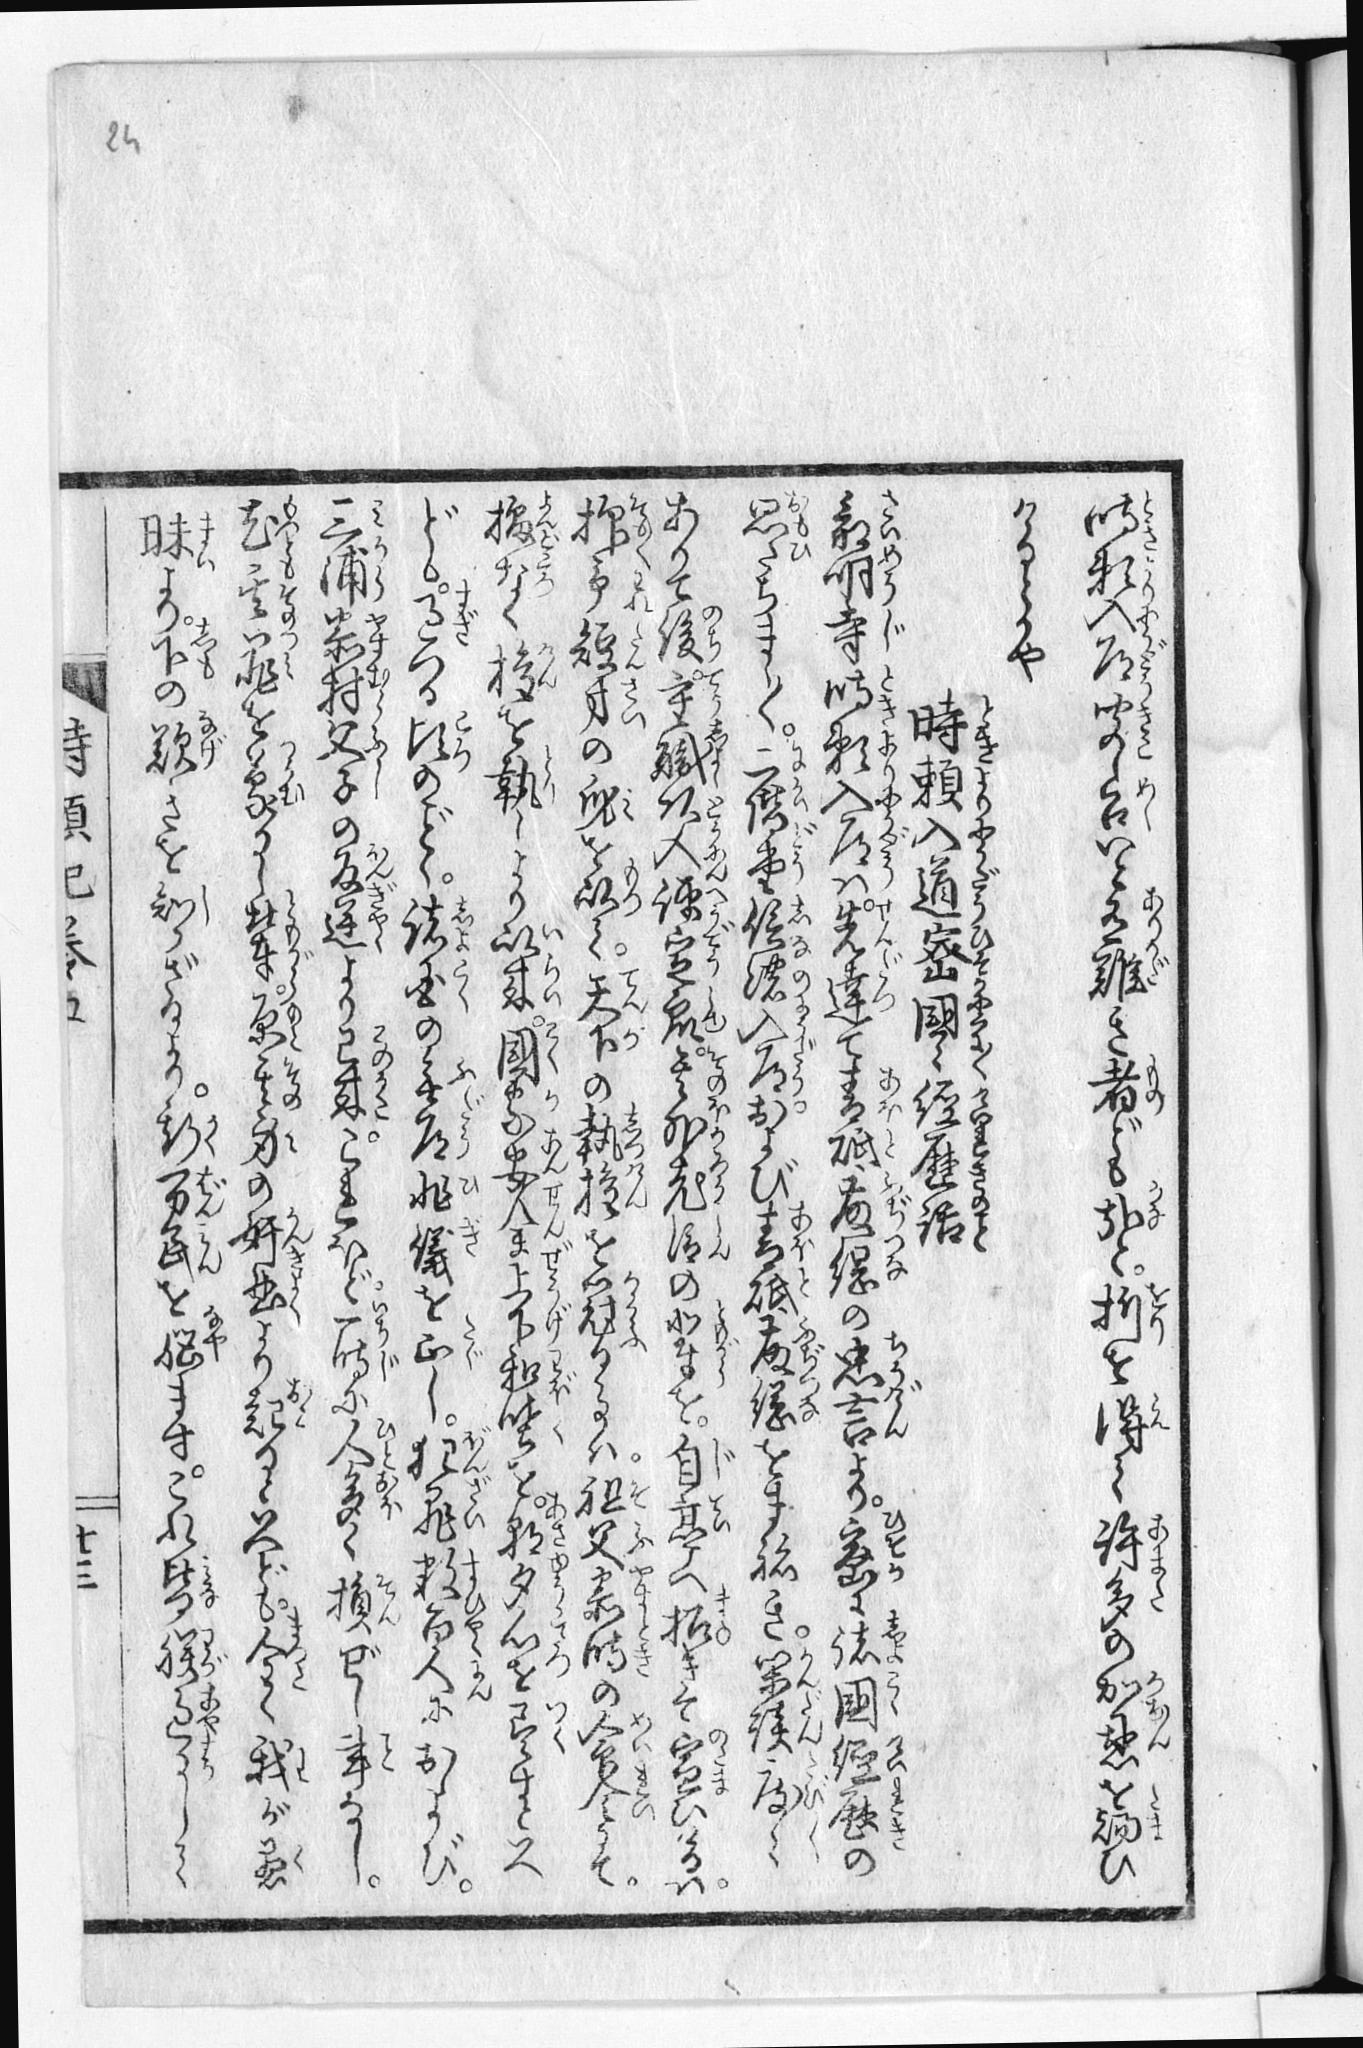MainZone-Character: (484, 487, 566, 605), (910, 985, 1002, 1081), (149, 1682, 230, 1783), (1077, 1051, 1179, 1125), (724, 485, 814, 569), (821, 1508, 916, 1587), (488, 1013, 560, 1116), (313, 879, 405, 956), (910, 689, 1001, 765), (1080, 1390, 1179, 1460), (1082, 690, 1167, 771), (663, 1297, 742, 1384), (828, 1774, 916, 1850), (134, 710, 230, 780), (577, 1265, 651, 1353), (828, 815, 910, 894), (570, 493, 657, 567), (831, 1379, 920, 1450), (911, 858, 1007, 924), (128, 509, 224, 575), (406, 1210, 490, 1285), (1082, 1282, 1174, 1349), (1086, 1777, 1168, 1852), (1088, 1700, 1176, 1768), (820, 543, 911, 608), (823, 899, 908, 969), (149, 1301, 228, 1376), (908, 1133, 1002, 1195), (1080, 937, 1174, 999), (904, 756, 995, 820), (914, 1195, 1007, 1257), (237, 737, 307, 820), (243, 1606, 313, 1688), (145, 1162, 231, 1227), (309, 538, 396, 604), (491, 743, 566, 820), (230, 623, 307, 696), (239, 1247, 310, 1326), (1088, 1507, 1170, 1575), (738, 823, 820, 891), (910, 924, 1004, 984), (415, 1478, 500, 1543), (820, 604, 911, 664), (824, 1228, 911, 1292), (1091, 1181, 1173, 1248), (651, 724, 735, 789), (141, 1621, 233, 1680), (751, 1745, 832, 1812), (141, 613, 218, 683), (824, 1668, 910, 1730), (313, 605, 392, 672), (824, 1174, 916, 1232), (496, 1400, 577, 1466), (748, 1315, 829, 1381), (322, 1571, 405, 1634), (408, 1549, 490, 1613), (1080, 487, 1164, 549), (828, 1060, 910, 1122), (240, 1376, 315, 1444), (236, 555, 304, 629), (403, 892, 478, 961), (399, 707, 478, 771), (741, 1692, 826, 1752), (497, 1113, 570, 1181), (829, 1732, 911, 1793), (1086, 632, 1168, 693), (497, 1612, 573, 1677), (820, 970, 905, 1028), (665, 1729, 735, 1799), (657, 1586, 730, 1653), (829, 488, 907, 550), (315, 838, 399, 896), (908, 1081, 1004, 1131), (322, 1464, 408, 1520), (497, 1347, 583, 1403), (242, 1727, 313, 1794), (566, 616, 656, 669), (148, 1554, 222, 1618), (242, 938, 316, 1002), (322, 1414, 405, 1472), (570, 969, 653, 1026), (647, 826, 733, 880), (580, 1761, 659, 1820), (487, 636, 554, 705), (739, 934, 815, 994), (815, 724, 902, 777), (1092, 774, 1165, 836), (505, 1242, 586, 1298), (412, 1651, 497, 1704), (572, 1099, 647, 1160), (573, 672, 651, 730), (406, 1425, 494, 1475), (406, 1108, 482, 1166), (403, 959, 479, 1017), (414, 578, 479, 645), (414, 1049, 484, 1111), (660, 1435, 739, 1490), (152, 1224, 227, 1282), (575, 1163, 650, 1221), (491, 1181, 572, 1235), (1094, 1574, 1174, 1627), (653, 924, 729, 981), (335, 1723, 399, 1790), (654, 602, 723, 664), (233, 493, 303, 553), (567, 772, 637, 833), (239, 990, 310, 1049), (493, 953, 564, 1013), (657, 981, 729, 1040), (742, 1037, 821, 1090), (821, 667, 896, 724), (907, 818, 1001, 862), (399, 1162, 484, 1210), (656, 1096, 733, 1149), (145, 1108, 224, 1160), (1083, 550, 1162, 602), (829, 1333, 916, 1381), (831, 1613, 907, 1666), (739, 1263, 820, 1314), (242, 1055, 312, 1113), (412, 1312, 482, 1370), (313, 667, 396, 716), (505, 1490, 570, 1551), (504, 1694, 569, 1755), (310, 493, 389, 543), (584, 1619, 651, 1679), (326, 1327, 400, 1381), (660, 1490, 736, 1542), (659, 1212, 735, 1263), (747, 1381, 828, 1429), (1095, 886, 1167, 941), (569, 859, 642, 912), (750, 1204, 815, 1263), (312, 718, 388, 768), (660, 1156, 732, 1209), (239, 883, 309, 937), (326, 1072, 396, 1125), (573, 1470, 650, 1519), (739, 892, 811, 944), (577, 1709, 657, 1755), (750, 1642, 823, 1692), (415, 1606, 493, 1653), (659, 1043, 729, 1095), (502, 1558, 573, 1609), (581, 1568, 653, 1618), (504, 1295, 580, 1343), (580, 1520, 656, 1568), (648, 880, 732, 923), (738, 781, 811, 830), (820, 1128, 898, 1174), (573, 570, 653, 614), (236, 1209, 316, 1251), (249, 1834, 312, 1888), (657, 669, 729, 716), (143, 883, 219, 927), (318, 768, 392, 812), (820, 777, 902, 816), (330, 1025, 399, 1072), (738, 999, 811, 1040), (1085, 1666, 1167, 1701), (739, 739, 808, 780), (1080, 604, 1162, 637), (488, 915, 564, 950), (654, 791, 727, 821), (584, 1028, 650, 1060), (326, 1300, 392, 1324)
MainZone-Ruby: (964, 979, 993, 1081), (531, 491, 557, 602), (882, 1374, 923, 1443), (196, 1683, 224, 1780), (879, 1507, 913, 1583), (707, 1297, 735, 1390), (876, 820, 910, 888), (196, 1160, 231, 1225), (367, 877, 397, 952), (967, 861, 1004, 921), (704, 1727, 735, 1800), (284, 1607, 310, 1692), (875, 900, 907, 969), (459, 1548, 491, 1616), (887, 1776, 914, 1855), (628, 493, 657, 567), (275, 736, 304, 810), (800, 1748, 832, 1815), (198, 1298, 231, 1362), (785, 488, 812, 566), (540, 1694, 572, 1759), (619, 1271, 645, 1352), (459, 1420, 496, 1476), (459, 1473, 496, 1530), (283, 938, 315, 1002), (793, 1320, 826, 1381), (196, 1624, 231, 1682), (701, 921, 738, 976), (616, 962, 653, 1017), (539, 1239, 575, 1294), (283, 1251, 310, 1324), (452, 579, 482, 645), (796, 1691, 829, 1748), (373, 1568, 402, 1634), (193, 1228, 228, 1283), (1144, 1282, 1174, 1344), (272, 555, 298, 628), (373, 1470, 409, 1522), (540, 1022, 561, 1110), (975, 698, 1001, 769), (449, 1054, 482, 1108), (703, 721, 730, 786), (790, 823, 818, 883), (873, 1063, 904, 1121), (195, 709, 224, 769), (616, 675, 648, 730), (628, 1762, 656, 1826), (619, 1102, 648, 1162), (376, 1324, 405, 1384), (449, 896, 476, 958), (1144, 1698, 1176, 1752), (367, 1017, 399, 1070), (879, 1175, 913, 1225), (540, 1295, 573, 1346), (1141, 1054, 1168, 1114), (190, 613, 214, 681), (539, 952, 564, 1016), (700, 824, 729, 880), (361, 611, 389, 667), (539, 1181, 567, 1238), (368, 537, 394, 599), (449, 712, 475, 774), (882, 1606, 910, 1663), (706, 1154, 735, 1209), (545, 1349, 575, 1400), (1133, 777, 1161, 833), (788, 1203, 815, 1259), (875, 488, 904, 541), (286, 1376, 315, 1429), (1136, 637, 1167, 687), (462, 1657, 496, 1703), (195, 511, 219, 573), (272, 494, 300, 549), (545, 1619, 572, 1674), (967, 926, 996, 978), (621, 1160, 650, 1212), (537, 742, 560, 807), (710, 1581, 733, 1647), (788, 934, 812, 994), (548, 1552, 572, 1613), (1145, 1779, 1168, 1843), (700, 979, 727, 1032), (456, 1314, 484, 1367), (195, 1558, 221, 1615), (790, 1038, 818, 1089), (704, 1099, 733, 1149), (280, 1206, 316, 1245), (1144, 940, 1174, 987), (1133, 699, 1156, 762), (879, 1669, 907, 1721), (280, 1057, 306, 1111), (698, 602, 723, 660), (969, 1198, 993, 1256), (625, 1710, 656, 1756), (872, 666, 898, 719), (628, 1566, 656, 1616), (539, 1127, 567, 1174), (796, 1385, 826, 1429), (882, 1233, 910, 1282), (706, 1216, 733, 1265), (542, 1485, 563, 1548), (969, 1136, 992, 1194), (452, 959, 475, 1017), (706, 1488, 735, 1534), (793, 1644, 821, 1689), (1147, 1511, 1168, 1572), (449, 1108, 473, 1162), (709, 1437, 738, 1481), (458, 1210, 487, 1254), (624, 617, 648, 669), (879, 546, 902, 601), (534, 637, 557, 692), (701, 669, 726, 719), (275, 631, 300, 681), (374, 1416, 397, 1469), (196, 1110, 224, 1154), (878, 607, 907, 648), (364, 671, 392, 712), (876, 727, 901, 775), (1139, 889, 1165, 935), (633, 1621, 653, 1680), (361, 842, 394, 877), (618, 858, 639, 912), (887, 1332, 911, 1379), (284, 1003, 307, 1054), (1147, 1391, 1176, 1431), (1139, 488, 1158, 550), (374, 1727, 397, 1776), (625, 570, 651, 613), (870, 972, 899, 1010), (704, 1048, 729, 1092), (627, 1520, 656, 1557), (625, 1475, 653, 1513), (280, 886, 301, 935), (972, 1087, 995, 1131), (884, 1732, 910, 1770), (459, 1616, 485, 1654), (975, 765, 993, 818), (370, 1073, 389, 1122), (292, 1742, 312, 1791), (1136, 555, 1159, 596), (367, 719, 388, 762), (1147, 1180, 1165, 1227), (286, 1843, 310, 1878), (881, 1128, 905, 1162), (368, 494, 392, 528), (1144, 1575, 1165, 1613), (196, 883, 216, 923), (788, 892, 812, 924), (971, 821, 993, 854), (788, 781, 811, 815), (706, 886, 729, 920), (456, 1165, 481, 1195), (537, 918, 566, 943), (793, 1265, 811, 1303), (785, 739, 806, 771), (619, 780, 634, 824), (876, 780, 896, 812), (791, 999, 811, 1031), (364, 768, 383, 800), (1135, 604, 1159, 629), (703, 792, 727, 818), (1142, 1669, 1165, 1695), (548, 1414, 566, 1444), (625, 1025, 645, 1052), (368, 1300, 391, 1323)
